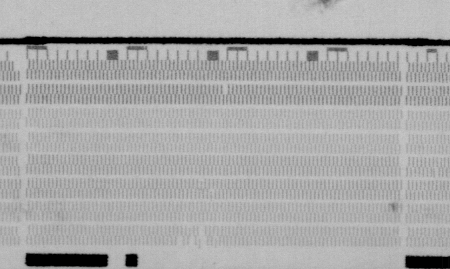Broken hole: (196, 225, 210, 247), (173, 236, 196, 248), (12, 60, 23, 74), (220, 84, 231, 96)
Oblique printing: (182, 224, 196, 237), (205, 188, 218, 202), (430, 167, 442, 180), (195, 178, 208, 189)
